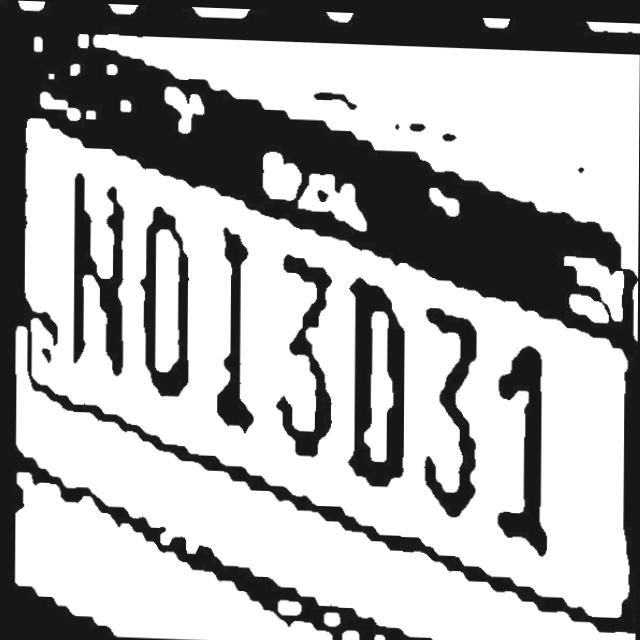1: (492, 334, 553, 554)
3: (420, 298, 481, 519), (271, 245, 334, 456)
d: (346, 273, 410, 489)
i: (210, 220, 264, 439)
n: (67, 168, 132, 384)
o: (136, 198, 195, 405)
